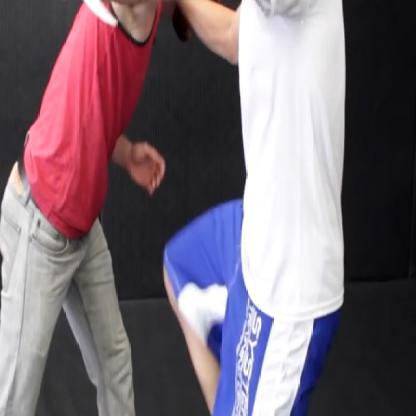knife: (35, 0, 129, 40)
